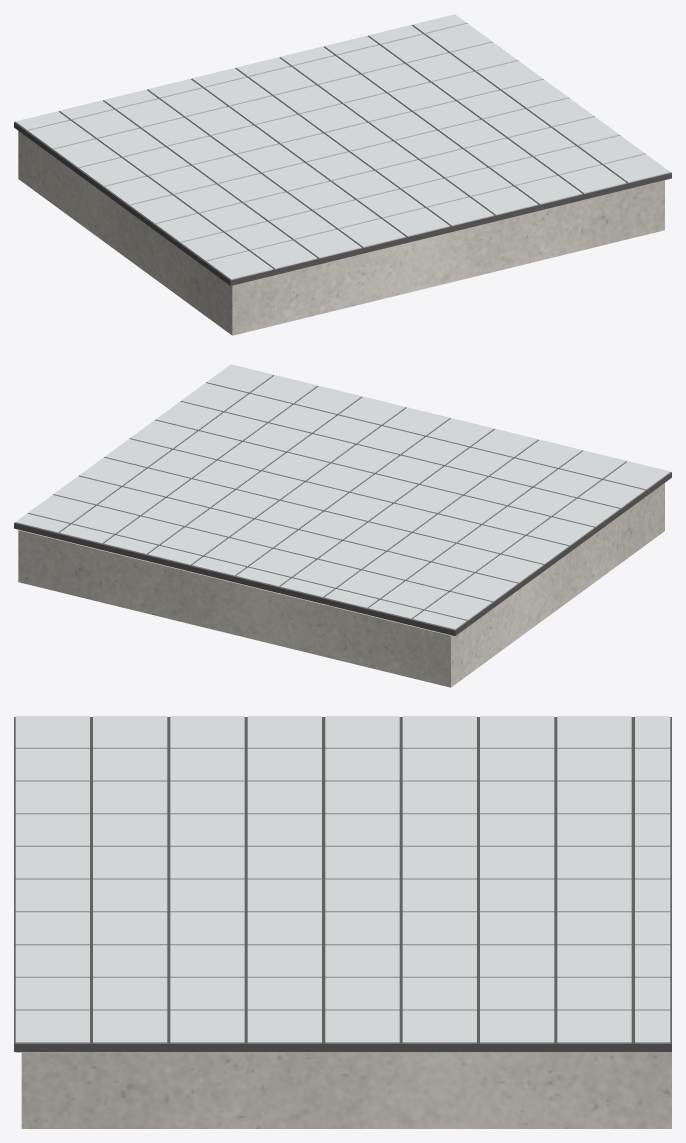
The model's file is floor_bath_u_e0010.glb.
3 renders of one model, top to bottom at view 1: azimuth 30°, elevation 25°; view 2: azimuth 150°, elevation 25°; view 3: azimuth 270°, elevation 25°, orthographic. The views are drawn at different scales.
Parts seen in each view (by area): view 1: floor_bath_u_e0010_tile, floor_bath_u_e0010_plaster, floor_bath_u_e0010_dark; view 2: floor_bath_u_e0010_tile, floor_bath_u_e0010_plaster, floor_bath_u_e0010_dark; view 3: floor_bath_u_e0010_tile, floor_bath_u_e0010_plaster, floor_bath_u_e0010_dark.
Part boxes in pixels (x1,y1,x2,y2): floor_bath_u_e0010_tile: (15, 14, 670, 285); floor_bath_u_e0010_plaster: (18, 131, 664, 335); floor_bath_u_e0010_dark: (14, 23, 671, 285); floor_bath_u_e0010_tile: (15, 364, 670, 635); floor_bath_u_e0010_plaster: (18, 483, 664, 687); floor_bath_u_e0010_dark: (14, 375, 671, 635); floor_bath_u_e0010_tile: (15, 716, 670, 1052); floor_bath_u_e0010_plaster: (21, 1052, 671, 1128); floor_bath_u_e0010_dark: (14, 717, 671, 1051).
Bounding box in the file's own units: 2 × 0.255 × 1.7.
3 materials, 1 textured.
